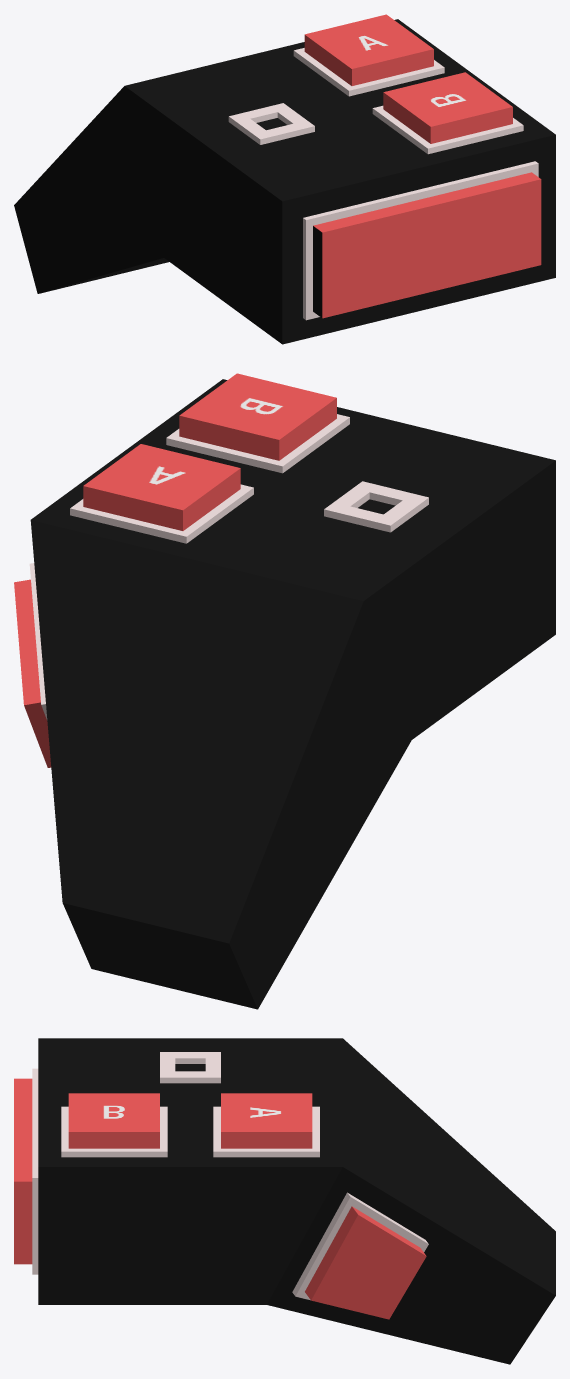
The model's file is vr_controller_right_body.fbx.
The picture shows the model from 3 angles, top to bottom: view 1: azimuth 30°, elevation 25°; view 2: azimuth 150°, elevation 25°; view 3: azimuth 270°, elevation 25°; orthographic projection. The views are drawn at different scales.
Parts seen in each view (by area): view 1: body_right; view 2: body_right; view 3: body_right.
Boxes of the visible parts, <box> form: body_right: <box>14,14,555,344</box>; body_right: <box>14,373,555,1009</box>; body_right: <box>14,1038,555,1364</box>.
Bounding box in the file's own units: 204 × 206 × 356.
